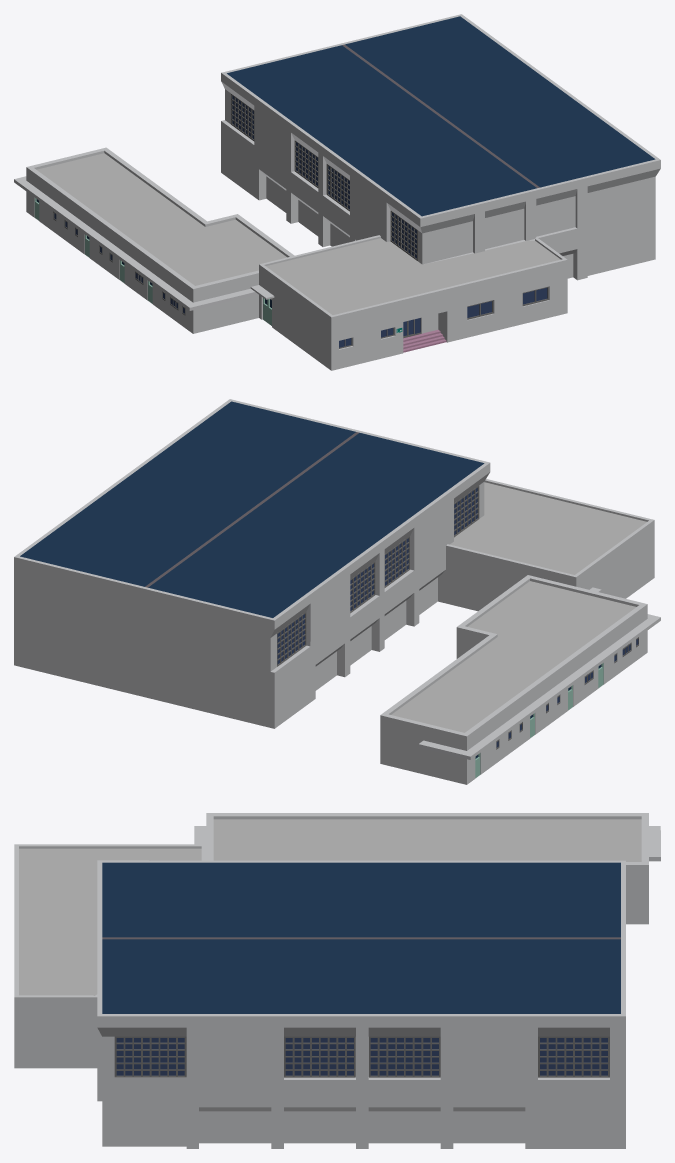
Rendered from Building_L.fbx.
3 renders of one model, top to bottom at view 1: azimuth 30°, elevation 25°; view 2: azimuth 150°, elevation 25°; view 3: azimuth 270°, elevation 25°, orthographic. The views are drawn at different scales.
Visible parts, largest first — view 1: Building_L; view 2: Building_L; view 3: Building_L.
Boxes of the visible parts, x1,y1,x2,y2 form: Building_L: (14,14,660,370); Building_L: (14,399,660,784); Building_L: (14,813,660,1148).
Size of the model in its own units: 42.34 by 9.31 by 41.15.
